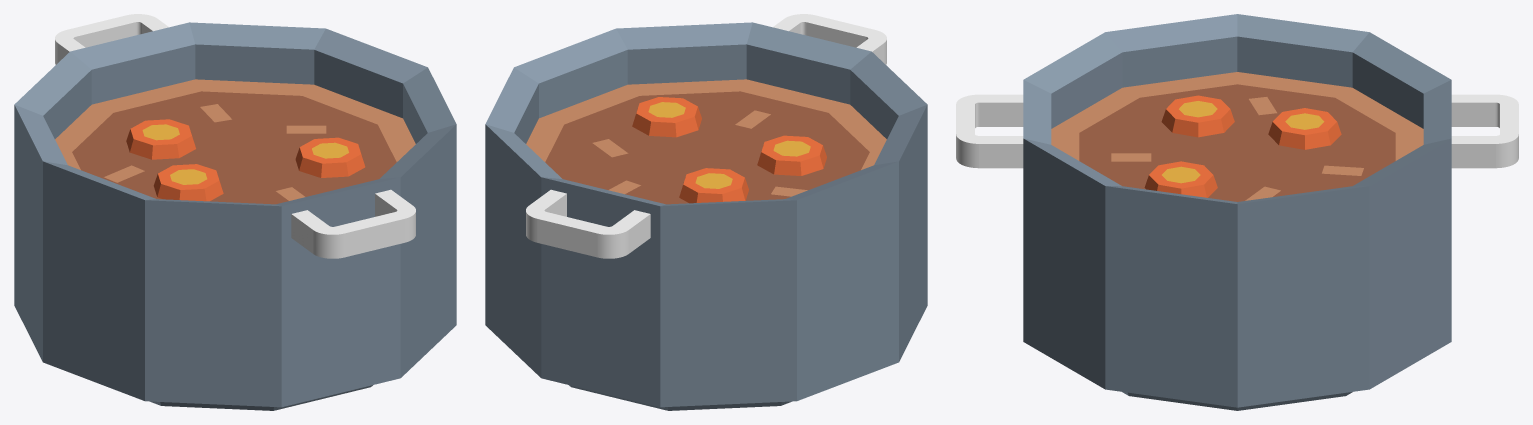
The model's file is potStew.fbx.
The picture shows the model from 3 angles, left to right: view 1: azimuth 30°, elevation 25°; view 2: azimuth 150°, elevation 25°; view 3: azimuth 270°, elevation 25°; orthographic projection.
Parts seen in each view (by area): view 1: potStew; view 2: potStew; view 3: potStew.
Boxes of the visible parts, left/top/right/bottom form: potStew: left=14, top=14, right=456, bottom=410; potStew: left=485, top=14, right=927, bottom=410; potStew: left=956, top=14, right=1518, bottom=410.
Bounding box in the file's own units: 6.57 × 3.61 × 8.22.
